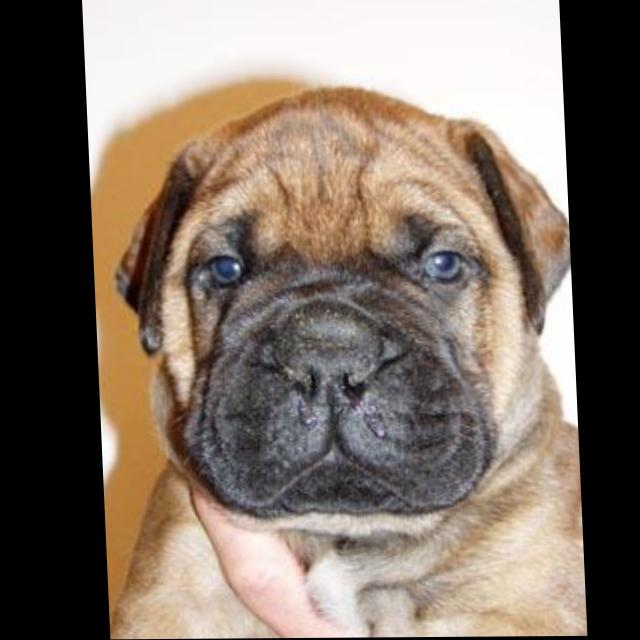bullmastiff: (86, 84, 582, 640)
